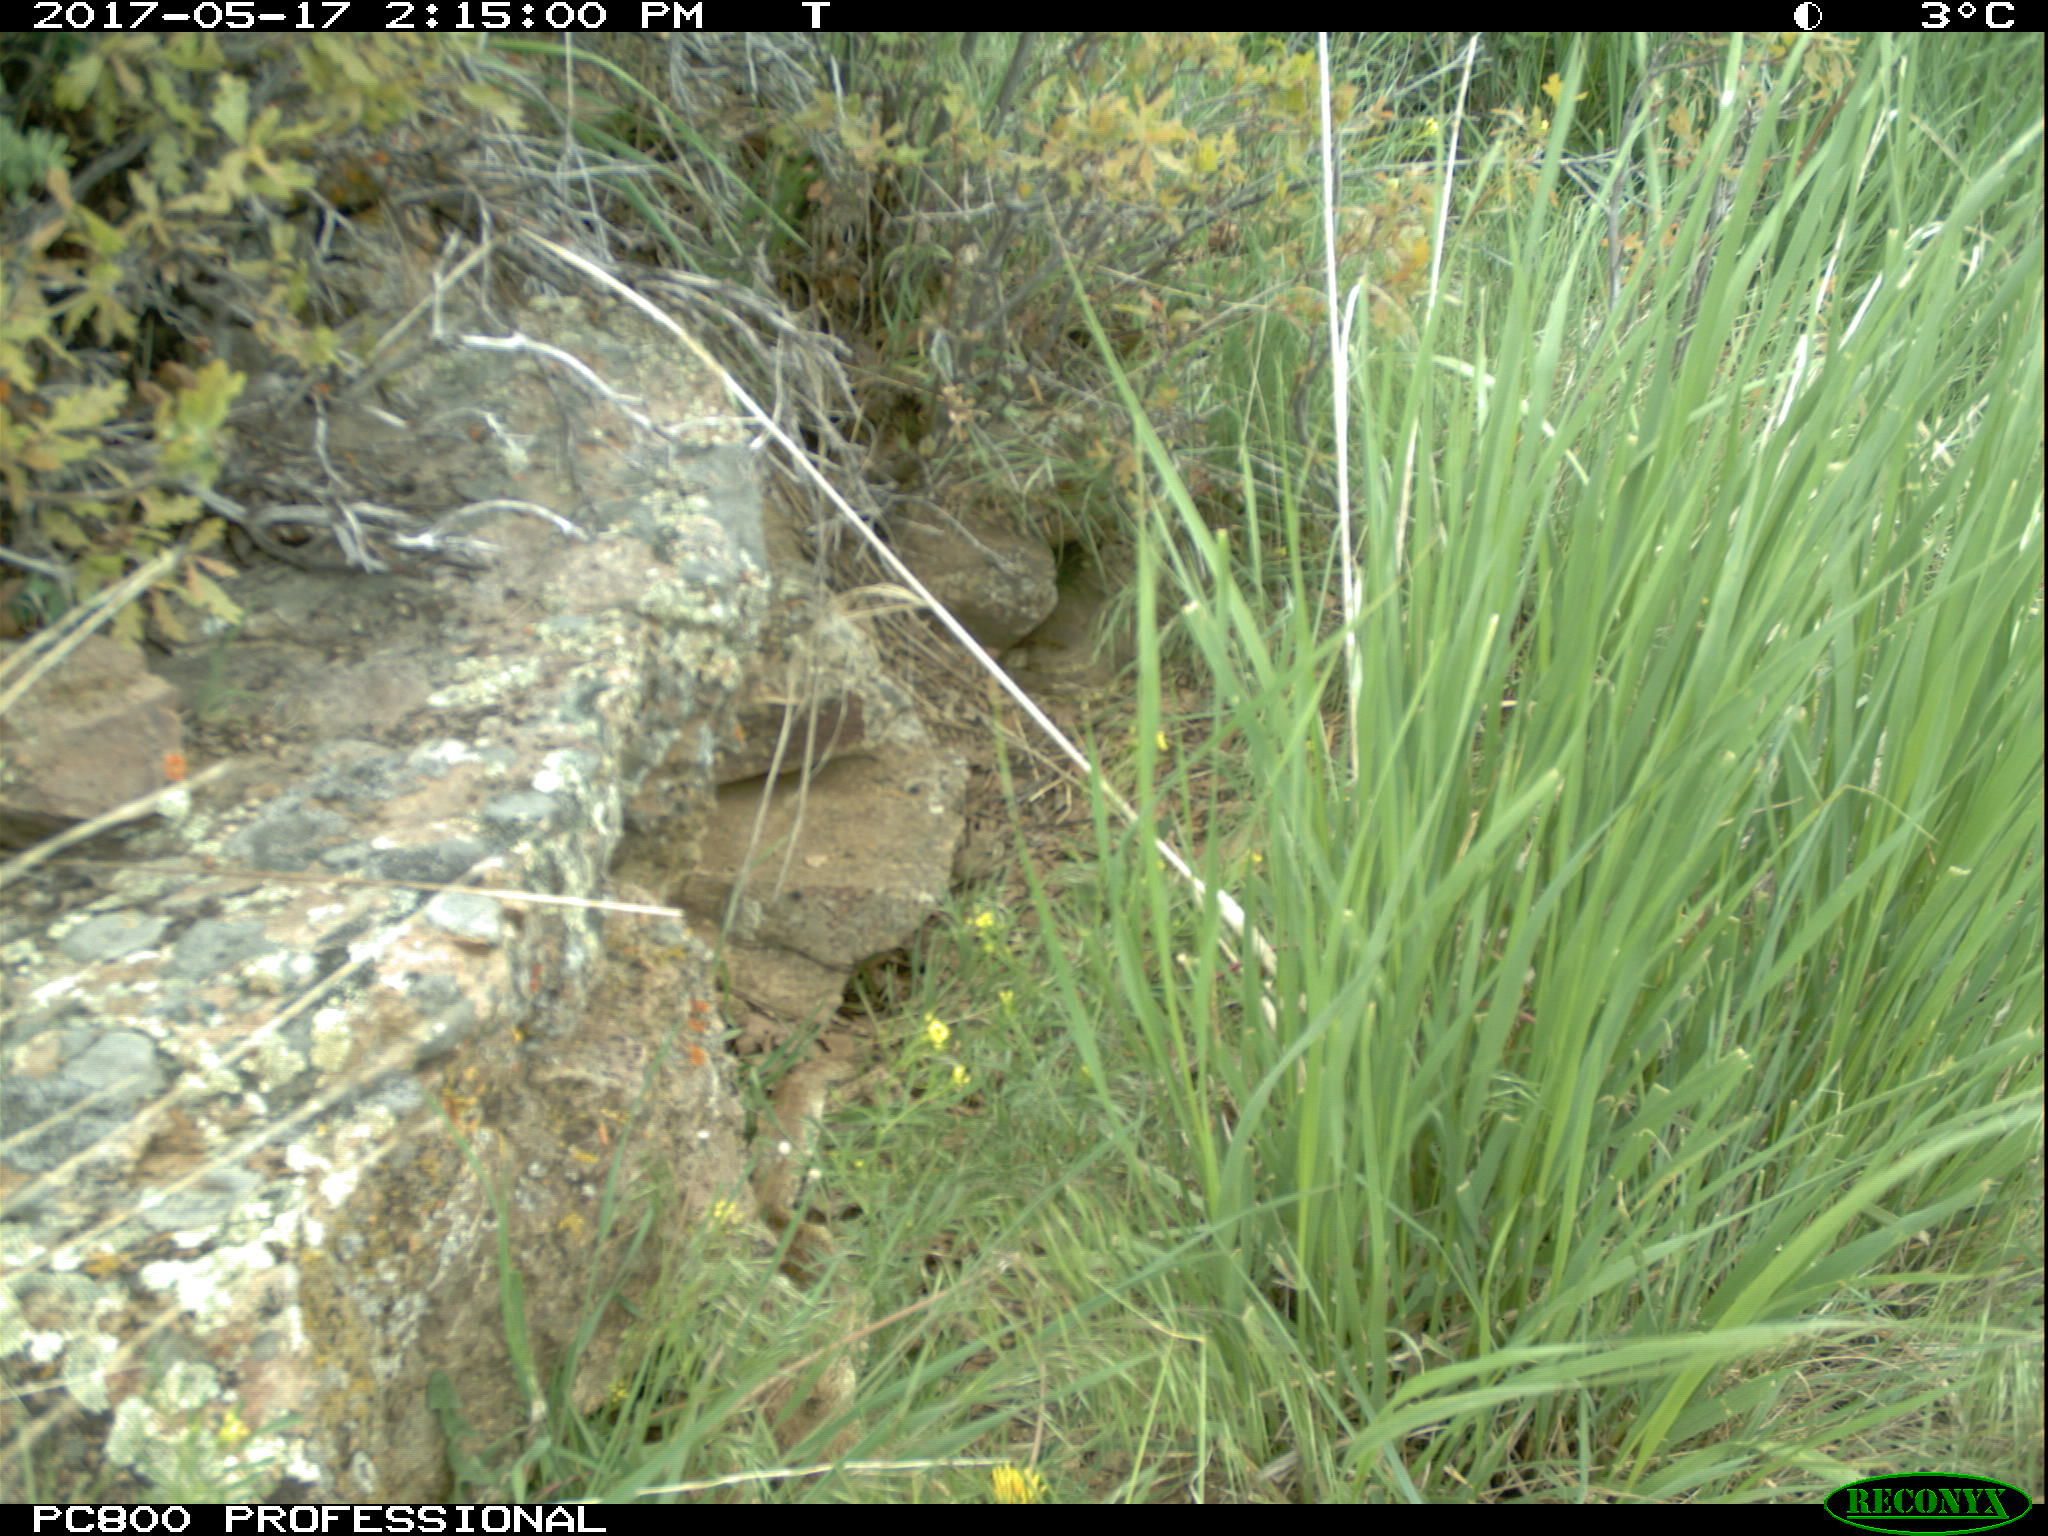snake: (756, 1050, 861, 1388)
